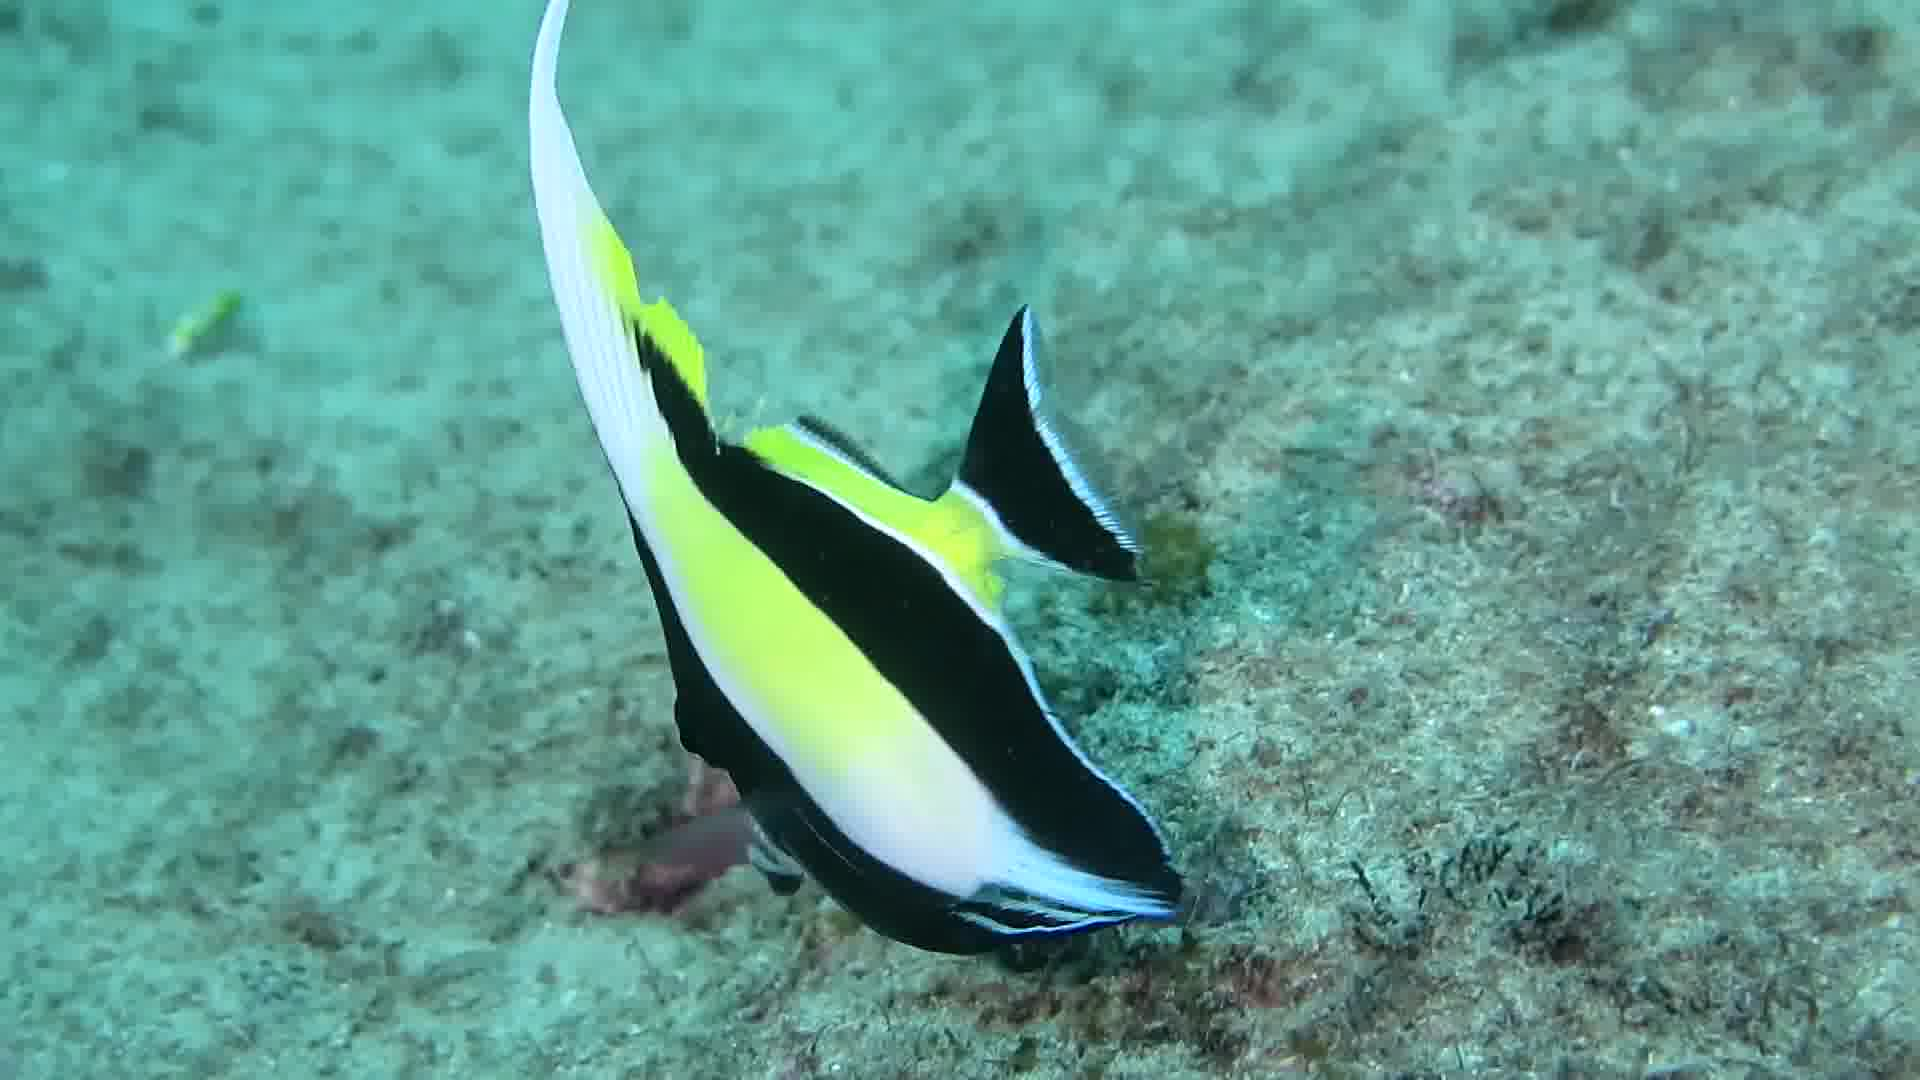Zanclus cornutus: (518, 257, 1180, 961)
